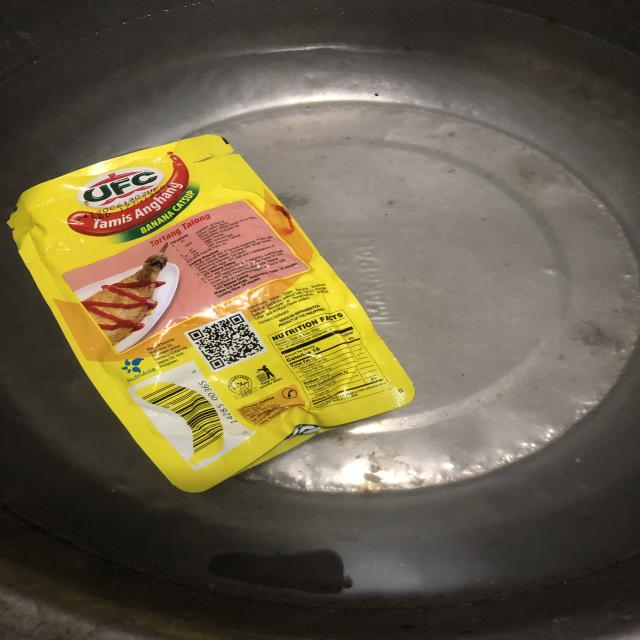Plastic Pouch: (0, 114, 438, 514)
